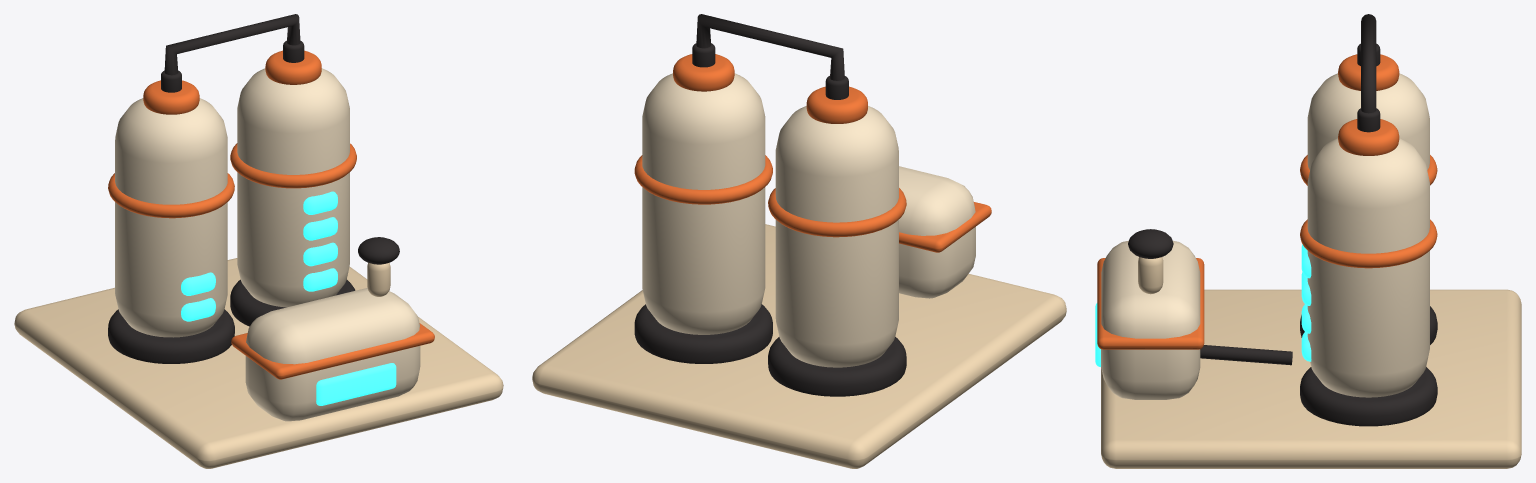
File: batteries-1.glb
The picture shows the model from 3 angles, left to right: view 1: azimuth 30°, elevation 25°; view 2: azimuth 150°, elevation 25°; view 3: azimuth 270°, elevation 25°; orthographic projection. The views are drawn at different scales.
Visible parts, largest first — view 1: Cube.007, Cube, Cube.008, Cylinder, Cube.001; view 2: Cube.007, Cube, Cylinder, Cube.008; view 3: Cube, Cube.007, Cylinder, Cube.008, Cube.001.
Part boxes in pixels (x1,y1,x2,y2): Cube.007: (115, 68, 420, 421); Cube: (14, 258, 503, 468); Cube.008: (108, 50, 434, 379); Cylinder: (108, 14, 399, 363); Cube.001: (181, 191, 396, 405); Cube.007: (642, 73, 975, 367); Cube: (532, 224, 1066, 468); Cylinder: (634, 14, 906, 396); Cube.008: (634, 54, 991, 252); Cube: (1101, 257, 1521, 468); Cube.007: (1101, 73, 1429, 399); Cylinder: (1128, 14, 1437, 426); Cube.008: (1097, 54, 1437, 349); Cube.001: (1095, 244, 1311, 366).
Size of the model in its own units: 1 by 0.9941 by 1.12.
